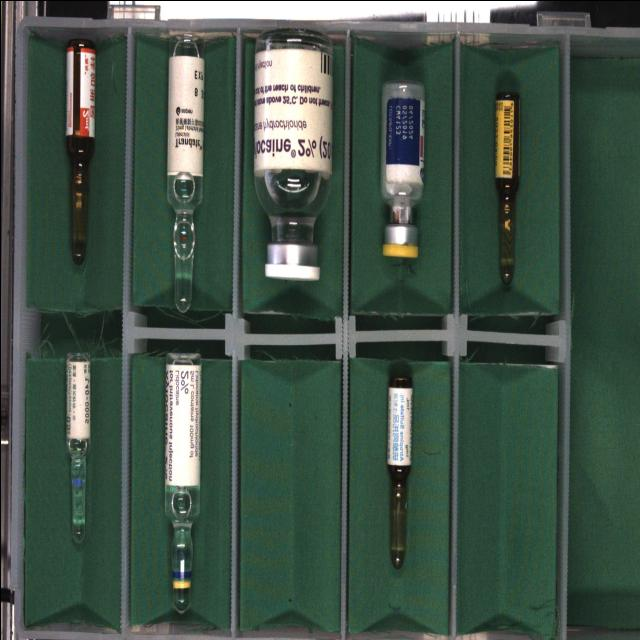Vials: (252, 29, 332, 279), (380, 81, 424, 258)
